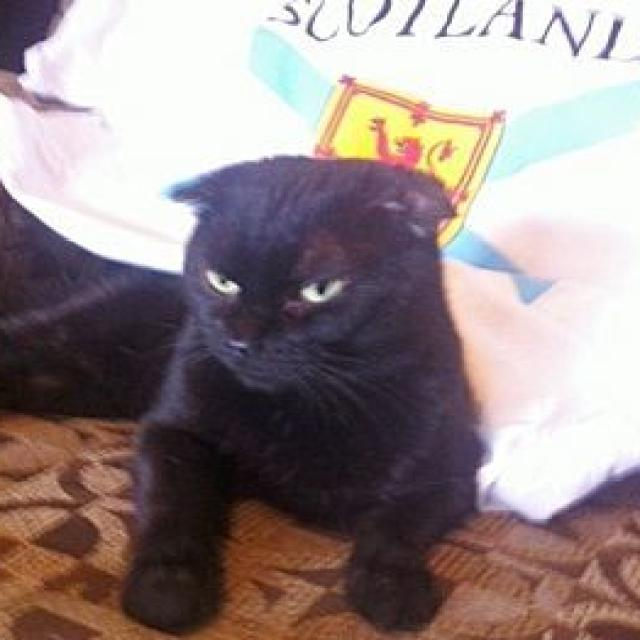Scottish Fold: (0, 147, 501, 638)
